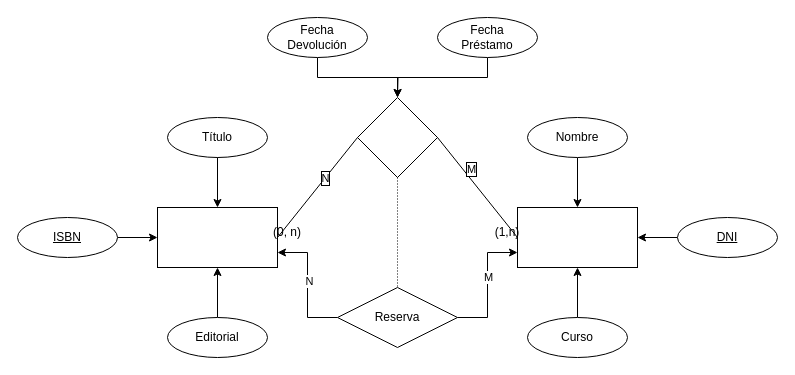
Image size: 795x375. Some labels were removed from this diagram. Here are the shapes that lost their labels. From the top down, the centre of each, then its label:
point 397,137: Prestado
point 217,237: Libro
point 577,237: Alumno
